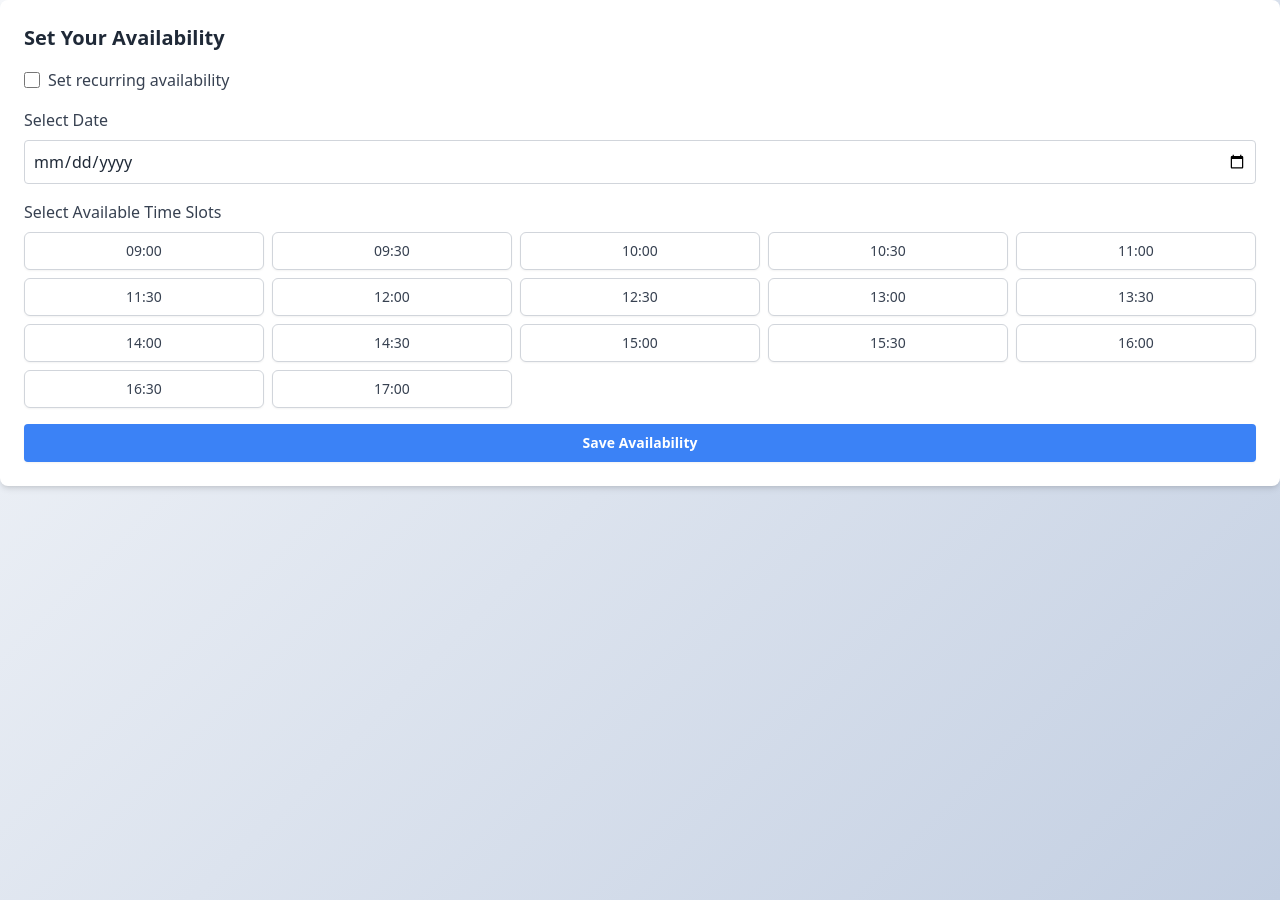
ClinicianAvailabilityManager › should validate that time slots are selected
The image size is (1280, 900).
# Set a date but don't select any time slots
Type "2025-06-01" into the date field labelled "Select Date" at (640, 162), box [24,140,1256,184]
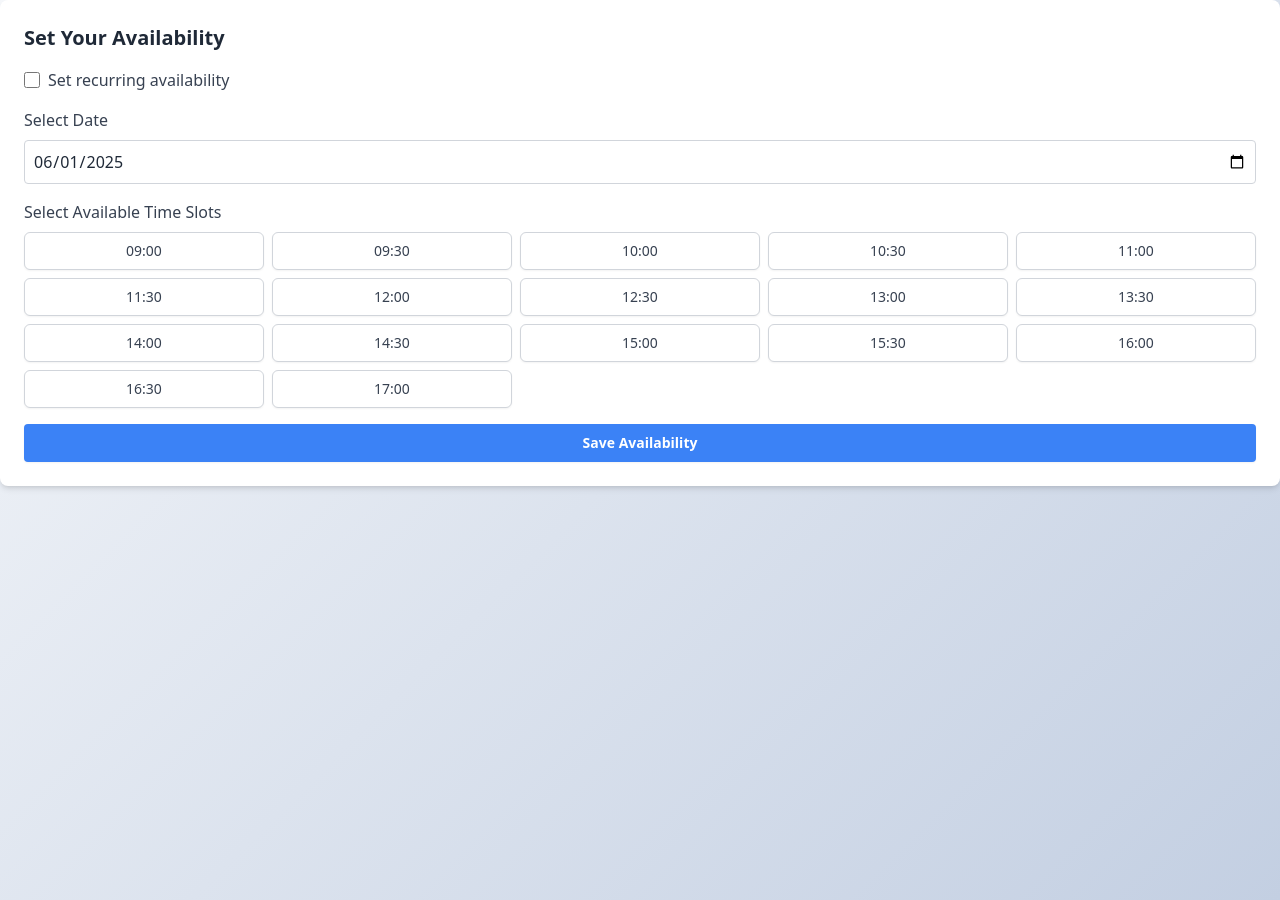
Click the button "Save Availability" at (640, 443), box [24,424,1256,462]
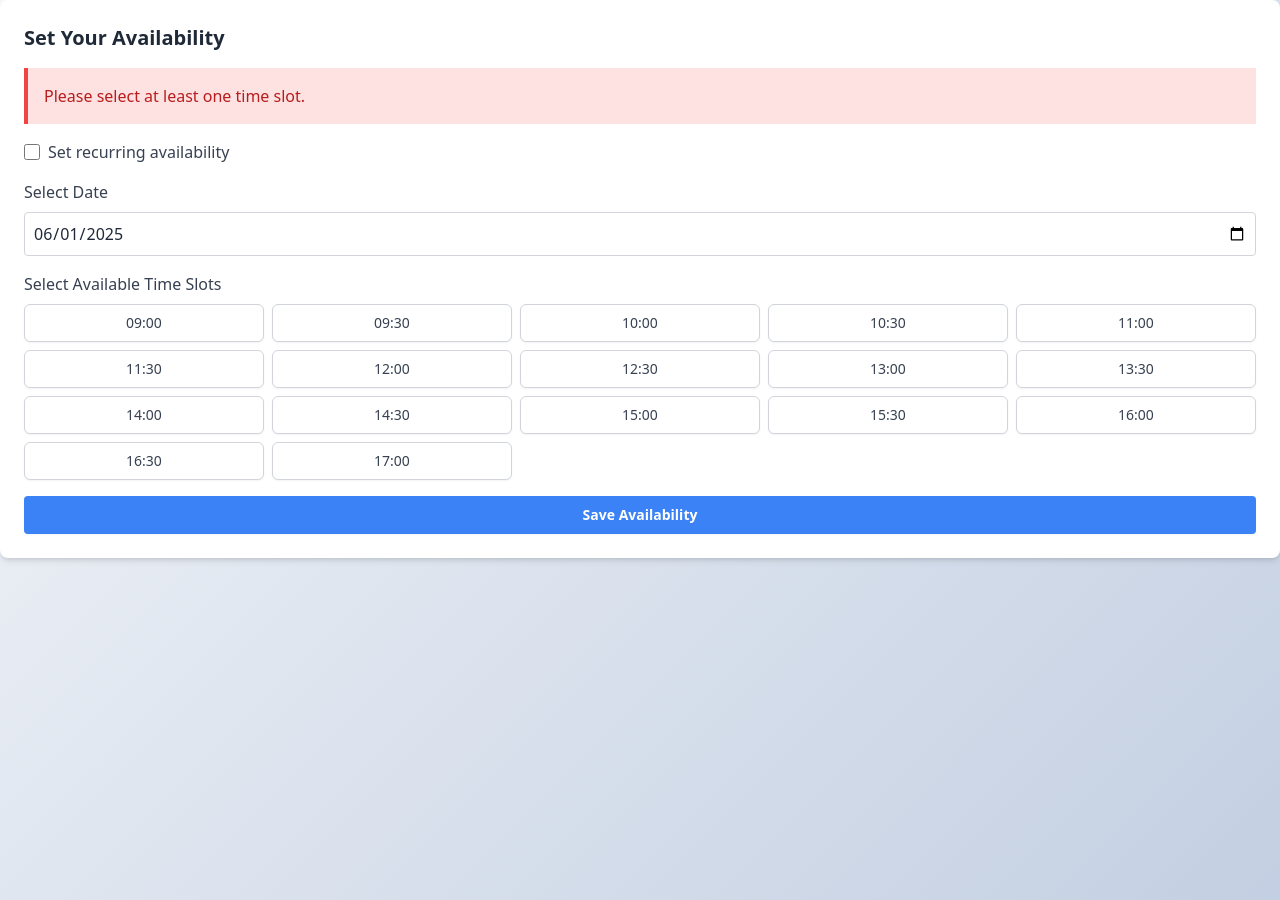
Now the text "Please select at least one time slot." is shown, box [44,85,305,107]
